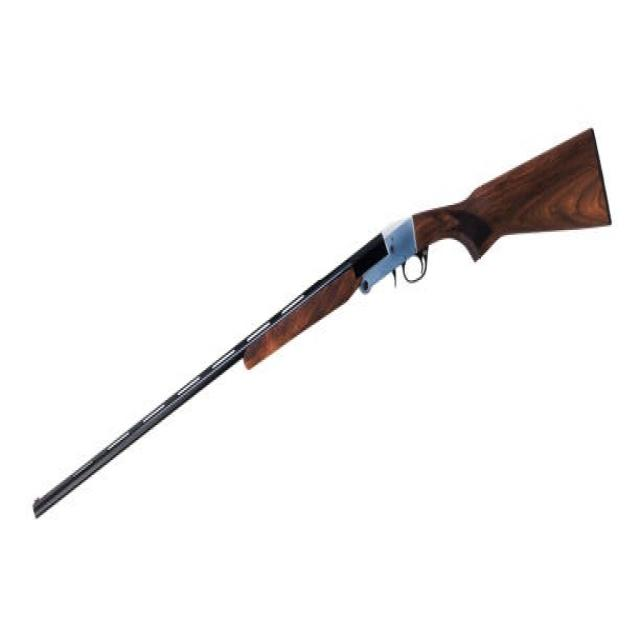rifle: (30, 121, 618, 534)
